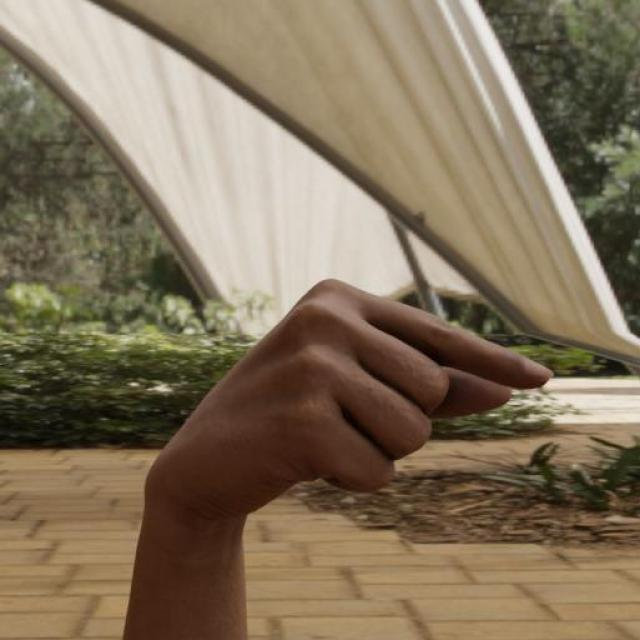G: (138, 274, 558, 554)
